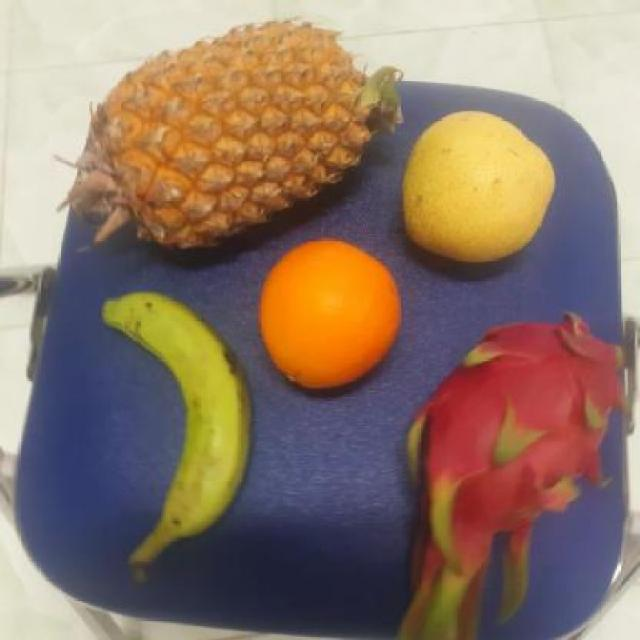banana: (106, 293, 256, 542)
dragon fruit: (393, 321, 635, 610)
oren: (256, 239, 406, 392)
pear: (402, 109, 560, 269)
pineapple: (91, 20, 392, 255)
